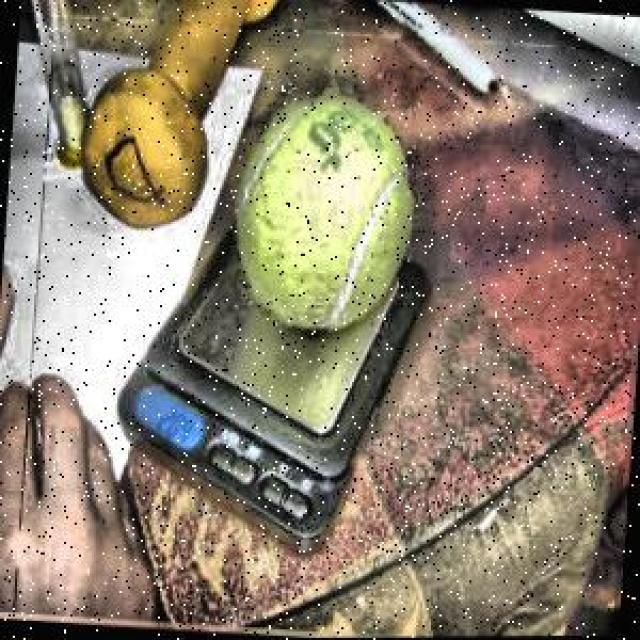tennis-ball: (218, 76, 426, 342)
